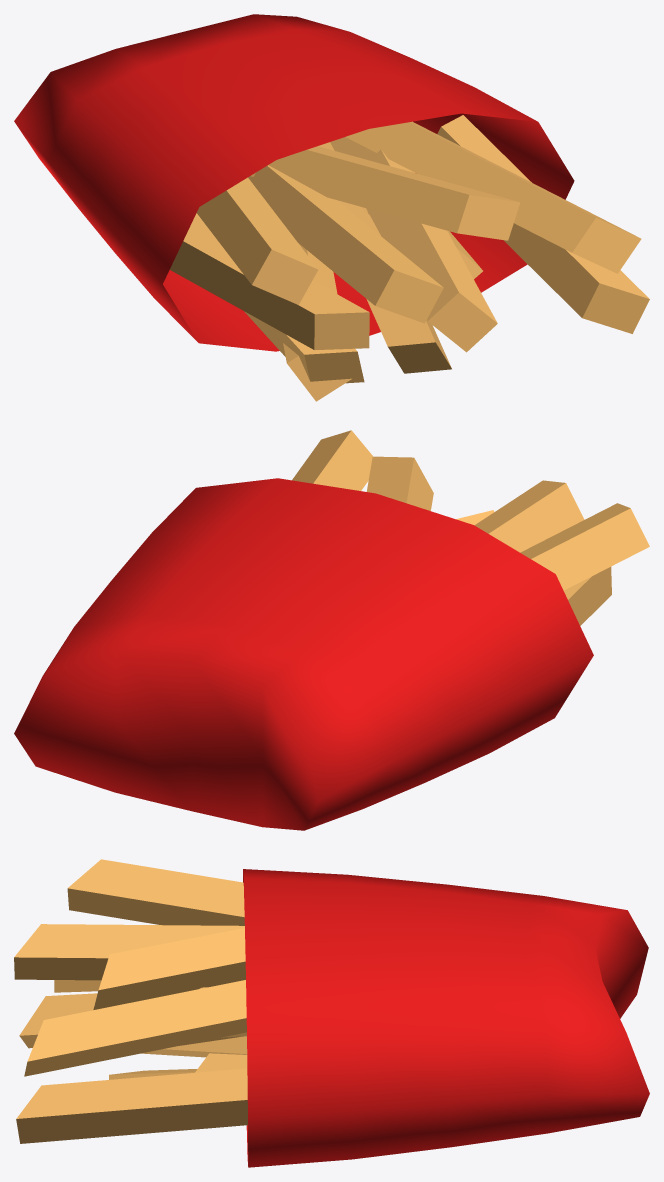
The model's file is fries.fbx.
3 views of the same model, one above another, from view 1: azimuth 30°, elevation 25°; view 2: azimuth 150°, elevation 25°; view 3: azimuth 270°, elevation 25° (orthographic). The views are drawn at different scales.
Parts seen in each view (by area): view 1: fries; view 2: fries; view 3: fries.
Part boxes in pixels (x1=…): fries: x1=14, y1=14, x2=649, y2=401; fries: x1=14, y1=430, x2=649, y2=830; fries: x1=14, y1=859, x2=649, y2=1167.
Bounding box in the file's own units: 0.5122 × 0.2459 × 0.6907.
